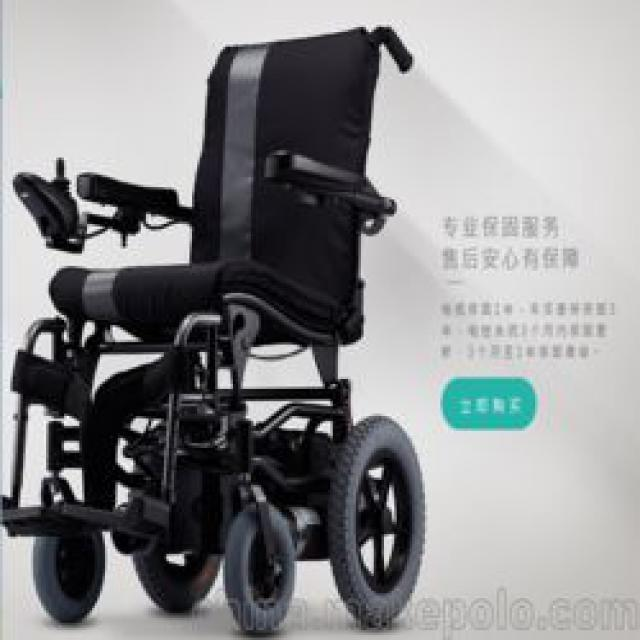wheelchair: (0, 14, 418, 631)
